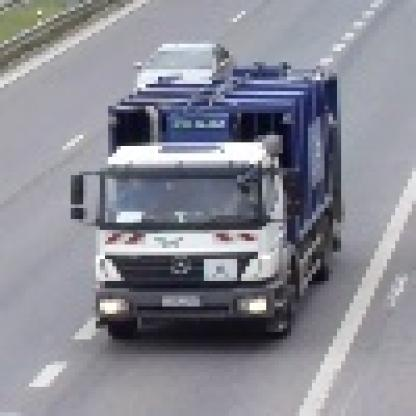truck: (68, 56, 342, 344)
